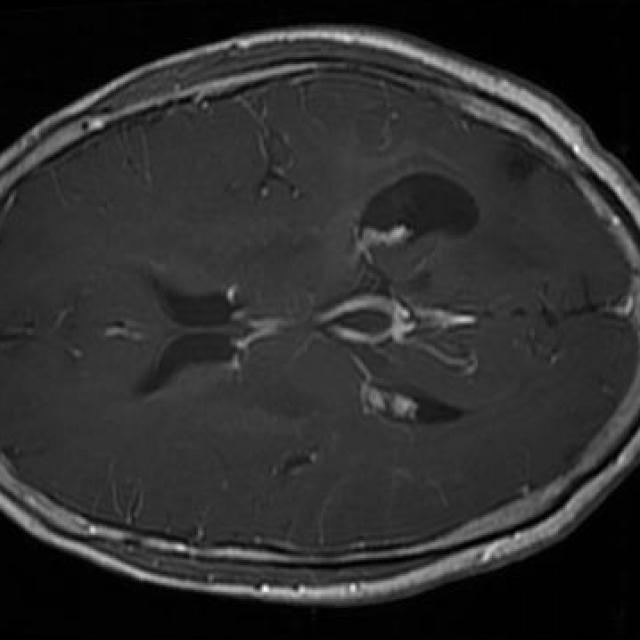glioma: (499, 146, 546, 182)
